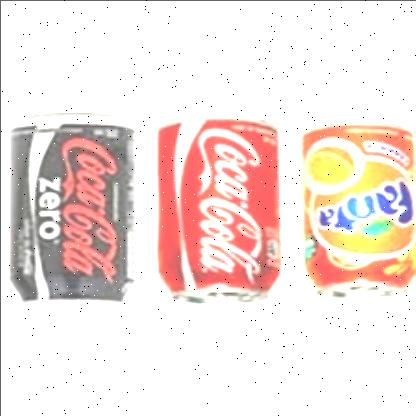Can: (6, 110, 136, 310), (156, 110, 284, 304), (298, 122, 416, 298)
